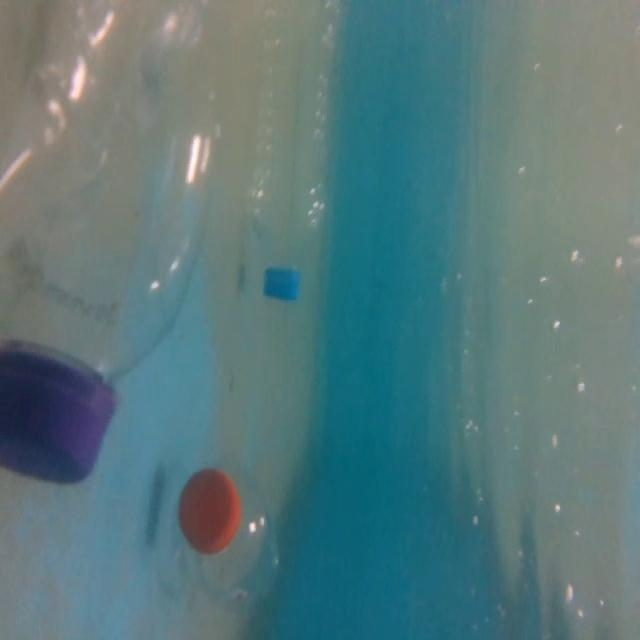plastic bottle: (0, 0, 222, 479), (244, 0, 338, 309), (165, 463, 286, 620)
